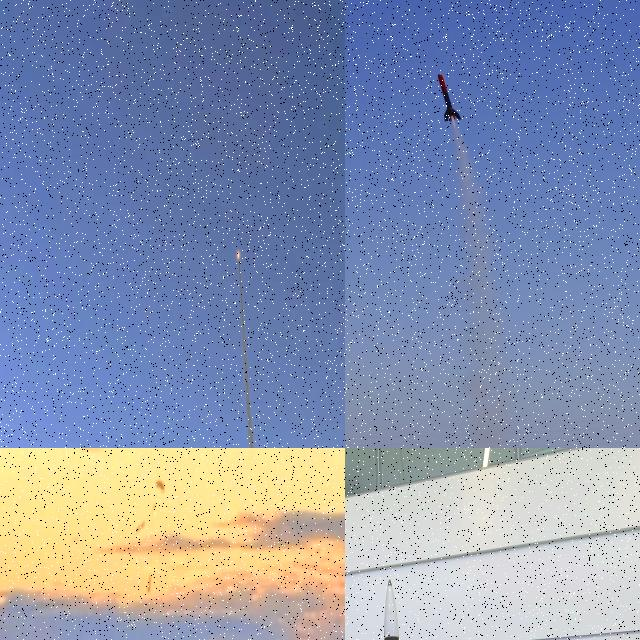Rocket: (437, 72, 462, 121), (147, 575, 152, 592), (237, 246, 239, 255)
